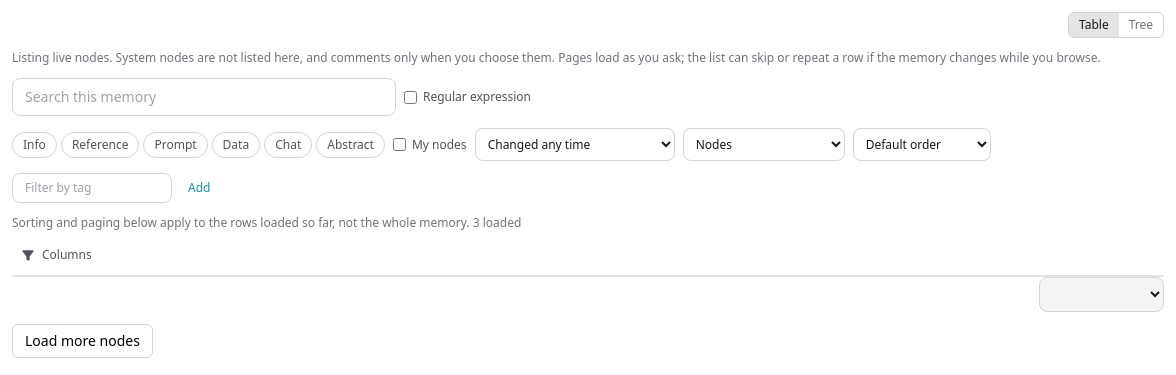
Test case: status line and tag box (#2696 blind P2, P3s) › while a narrowed read is loading, or has failed, the plain-list caveat is not shown; it says it is searching the whole memory
The width and height of the screenshot is (1176, 375).
Expected: the text with test id "table-partial" shows "apply to the rows loaded so far", left=12, top=214, right=470, bottom=231
Click the button with test id "nodes-type-data" at (236, 144), box left=212, top=132, right=260, bottom=158
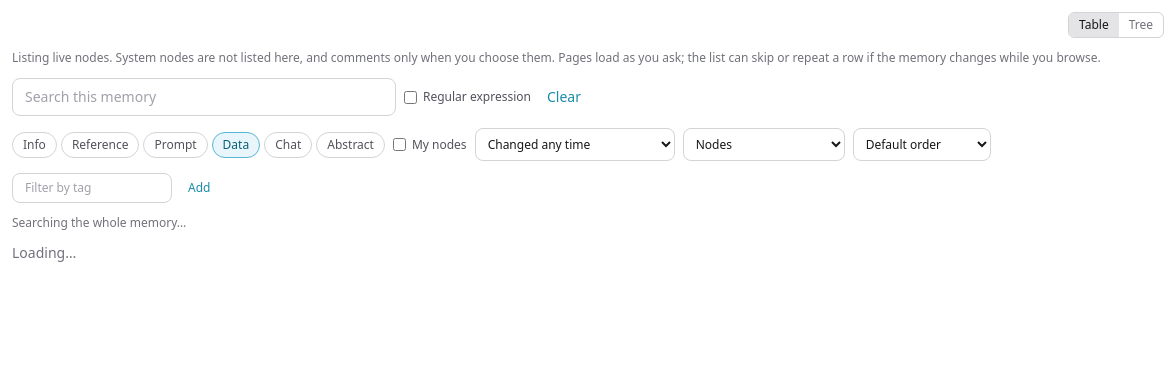
Now the text with test id "table-partial" no longer shows "apply to the rows loaded so far"
Now the text with test id "table-partial" shows "Searching the whole memory", box left=12, top=214, right=186, bottom=231
Click the button with test id "nodes-type-data" at (236, 144), box left=212, top=132, right=260, bottom=158
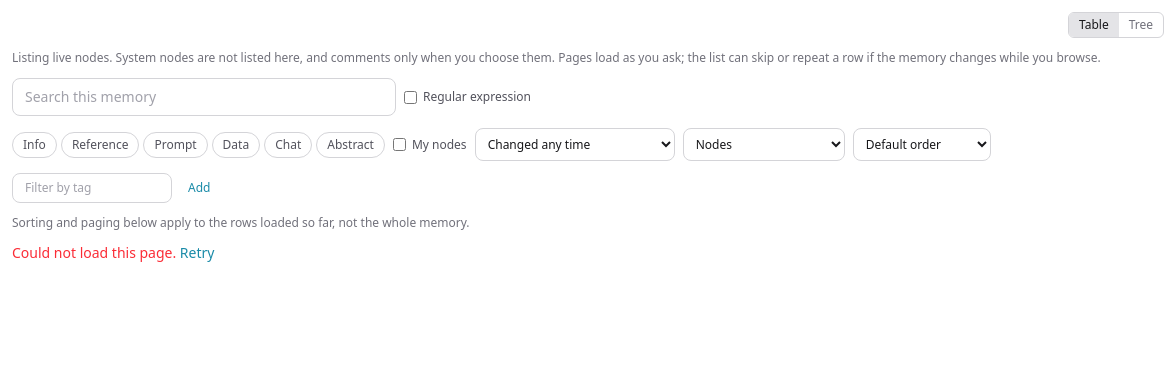
Click the button "Chat" at (288, 144), box left=264, top=132, right=312, bottom=158
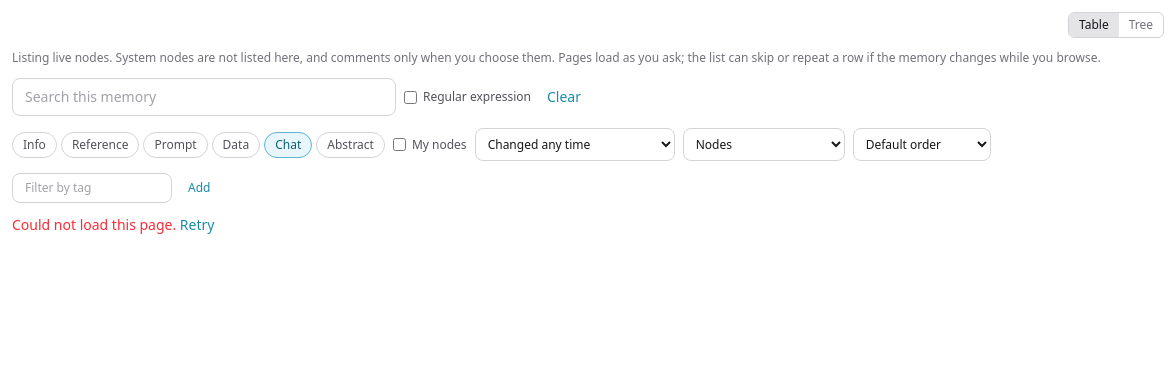
Now the text "Could not load this page" is shown, box left=12, top=215, right=180, bottom=234
Now the text with test id "table-partial" no longer shows "apply to the rows loaded so far"
